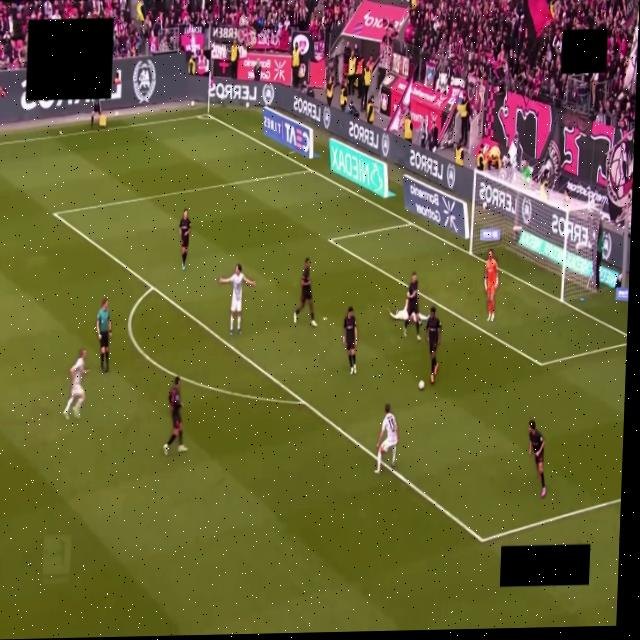ball: (418, 381, 423, 389)
player: (218, 264, 254, 335), (163, 377, 186, 455), (63, 350, 87, 419), (293, 258, 316, 327), (375, 404, 397, 473), (528, 420, 545, 497), (425, 307, 441, 384), (403, 273, 421, 340), (342, 307, 357, 374), (484, 250, 497, 321), (178, 211, 190, 270), (388, 303, 415, 322)
referee: (96, 299, 111, 372)
